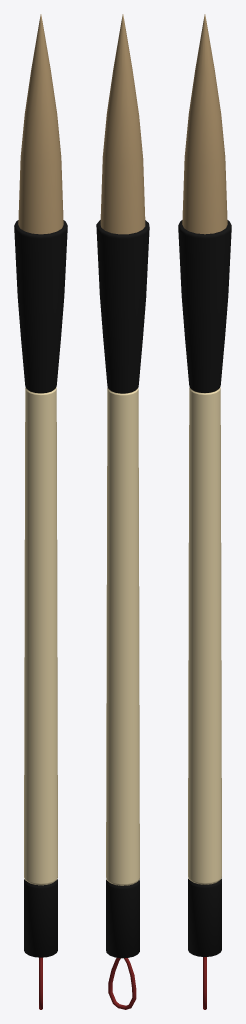
The model's file is 2024_MiddleScene_Brush.fbx.
3 renders of one model, left to right at view 1: azimuth 90°, elevation 25°; view 2: azimuth 150°, elevation 25°; view 3: azimuth 270°, elevation 25°, orthographic.
Visible parts, largest first — view 1: Cylinder, Cylinder.001; view 2: Cylinder, Cylinder.001; view 3: Cylinder, Cylinder.001.
Boxes of the visible parts, bbox=[...] form: Cylinder: bbox=[14, 220, 67, 1009]; Cylinder.001: bbox=[18, 14, 63, 234]; Cylinder: bbox=[96, 220, 149, 1009]; Cylinder.001: bbox=[100, 14, 145, 234]; Cylinder: bbox=[178, 220, 231, 1009]; Cylinder.001: bbox=[182, 14, 227, 234].
Bounding box in the file's own units: 3.39 × 69.26 × 3.39.
